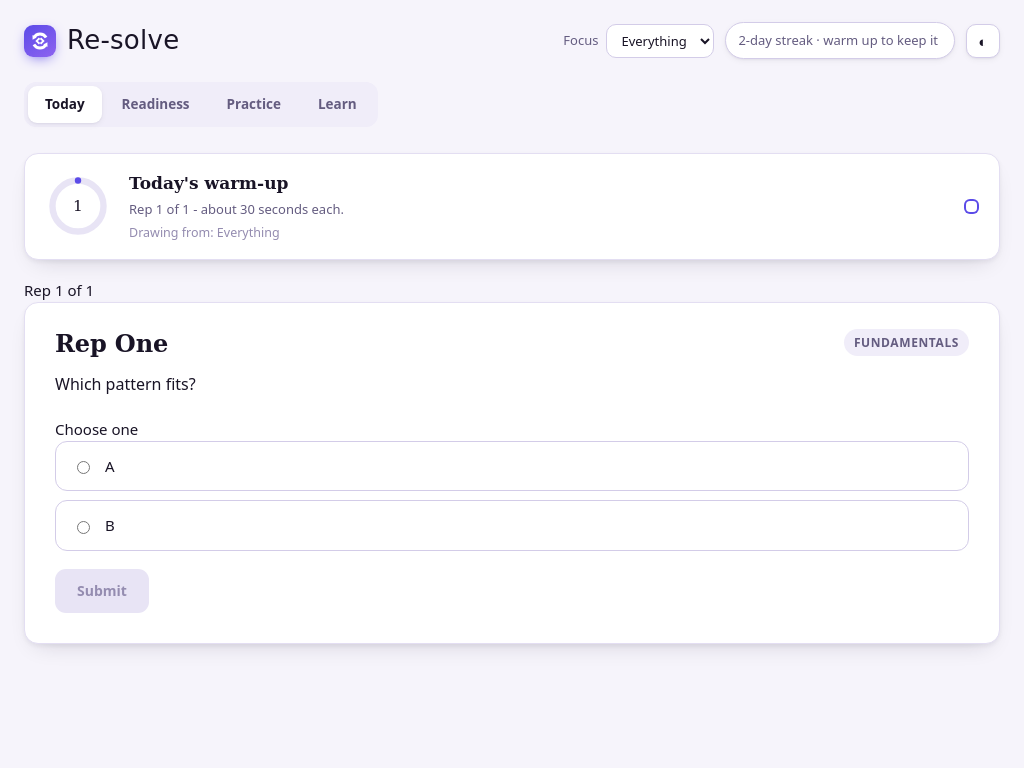
Test: Session (daily loop, issue #19) › reaches the practice surface directly via the Practice tab, without the warm-up
Expected: the heading "Rep One" is shown, [55,328,168,358]
Click the button "Practice" at (254, 104), box [210,86,298,123]
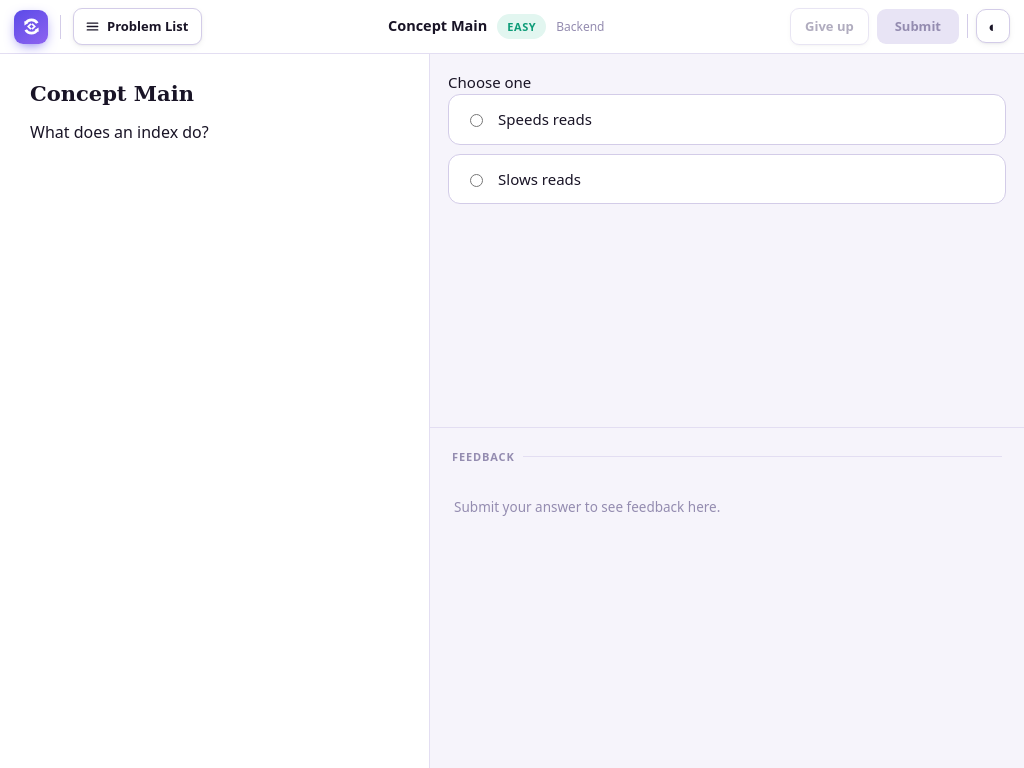
Result: the heading "Concept Main" is shown at [30,81,194,106]
